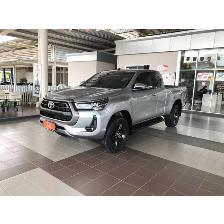NON-EV: (40, 65, 190, 156)
